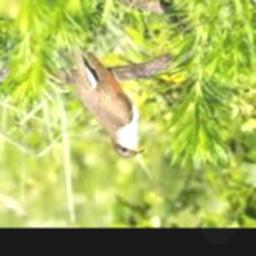Cuckoo: (69, 43, 145, 158)
